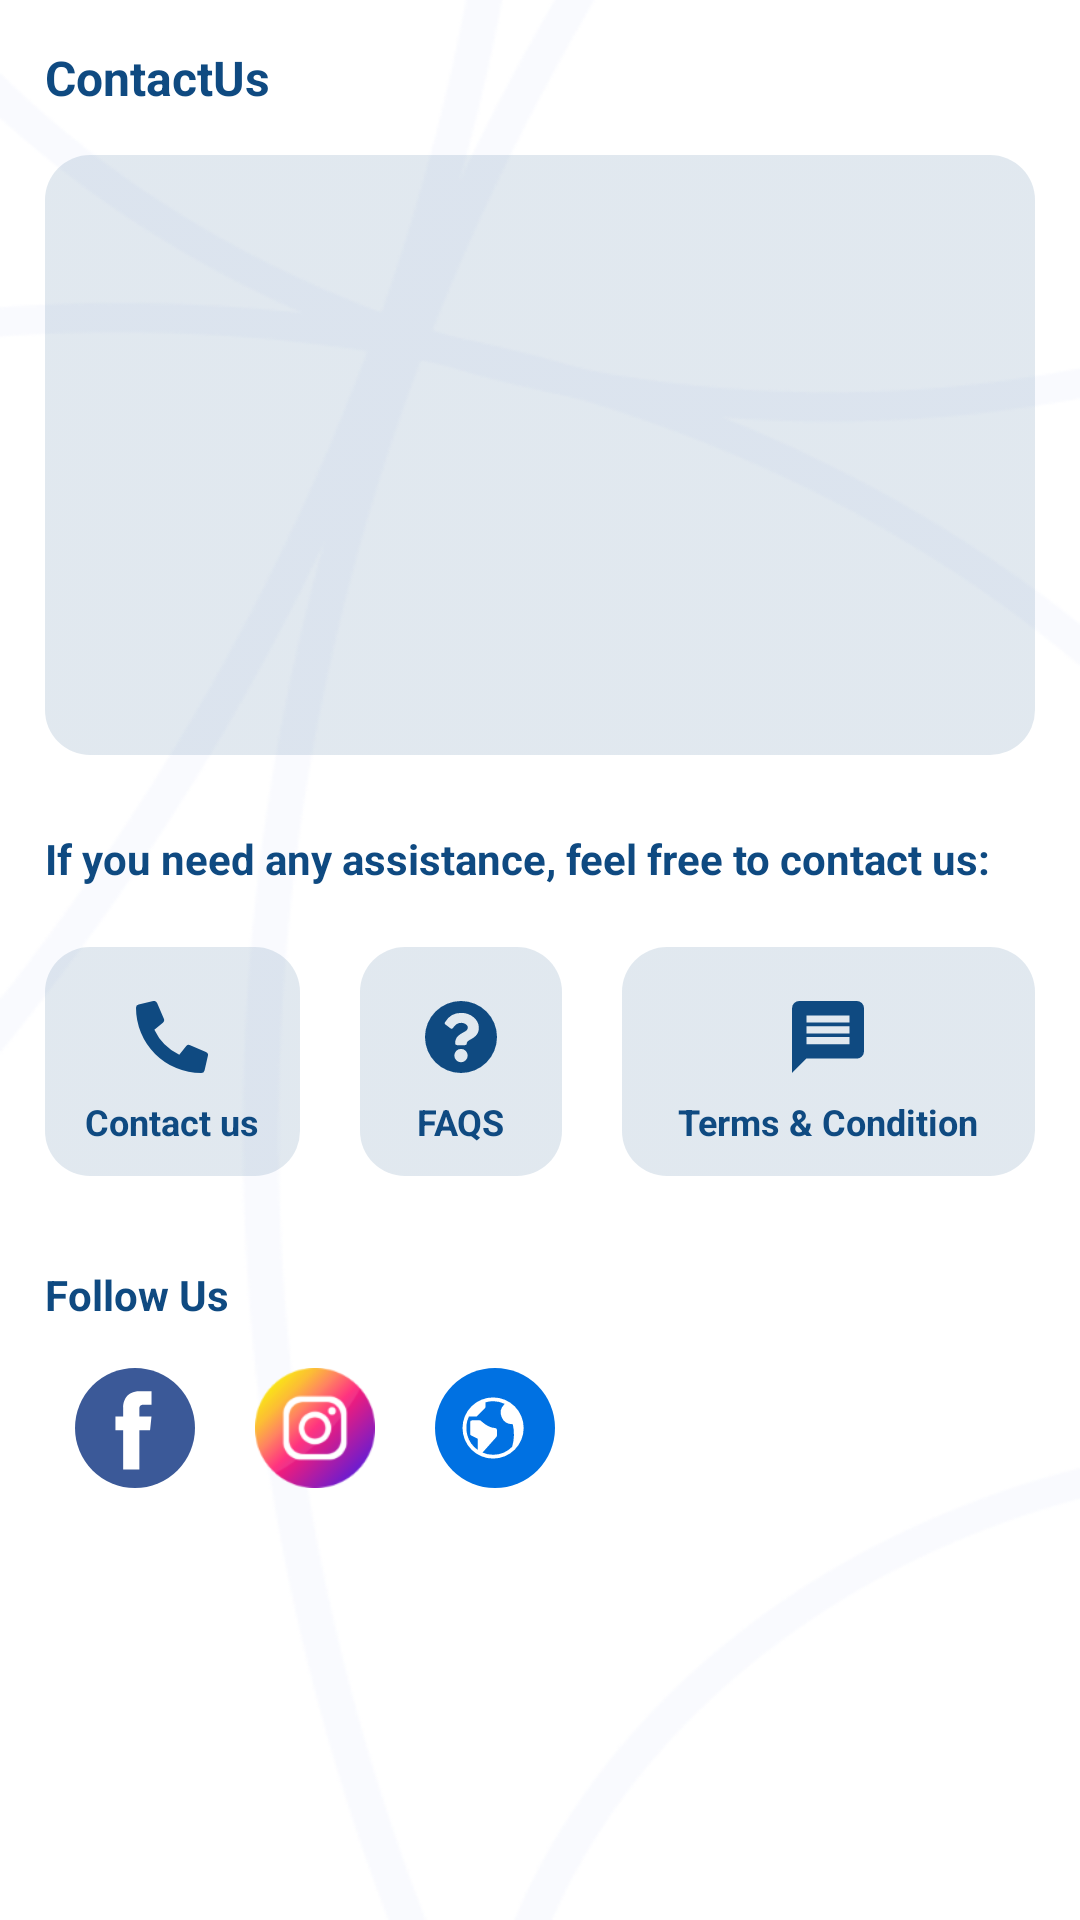

Icon click points for this 1080w x 1920h phone screenshot, format point (x, y):
awesome phone: point (172, 1037)
awesome question circle: point (461, 1037)
grweb: point (495, 1428)
message: point (828, 1037)
